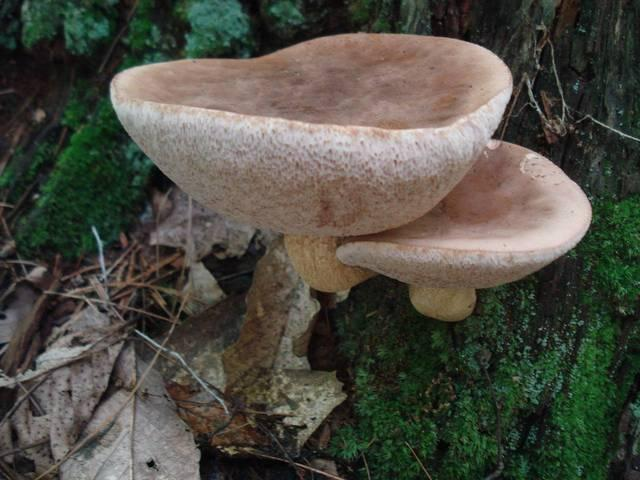Non-edible Mushroom: (107, 30, 515, 296), (334, 137, 593, 322)
